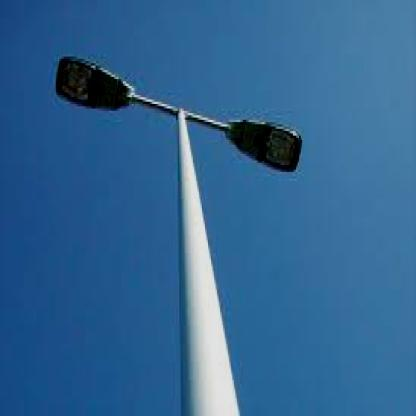light_pole: (55, 54, 304, 414)
